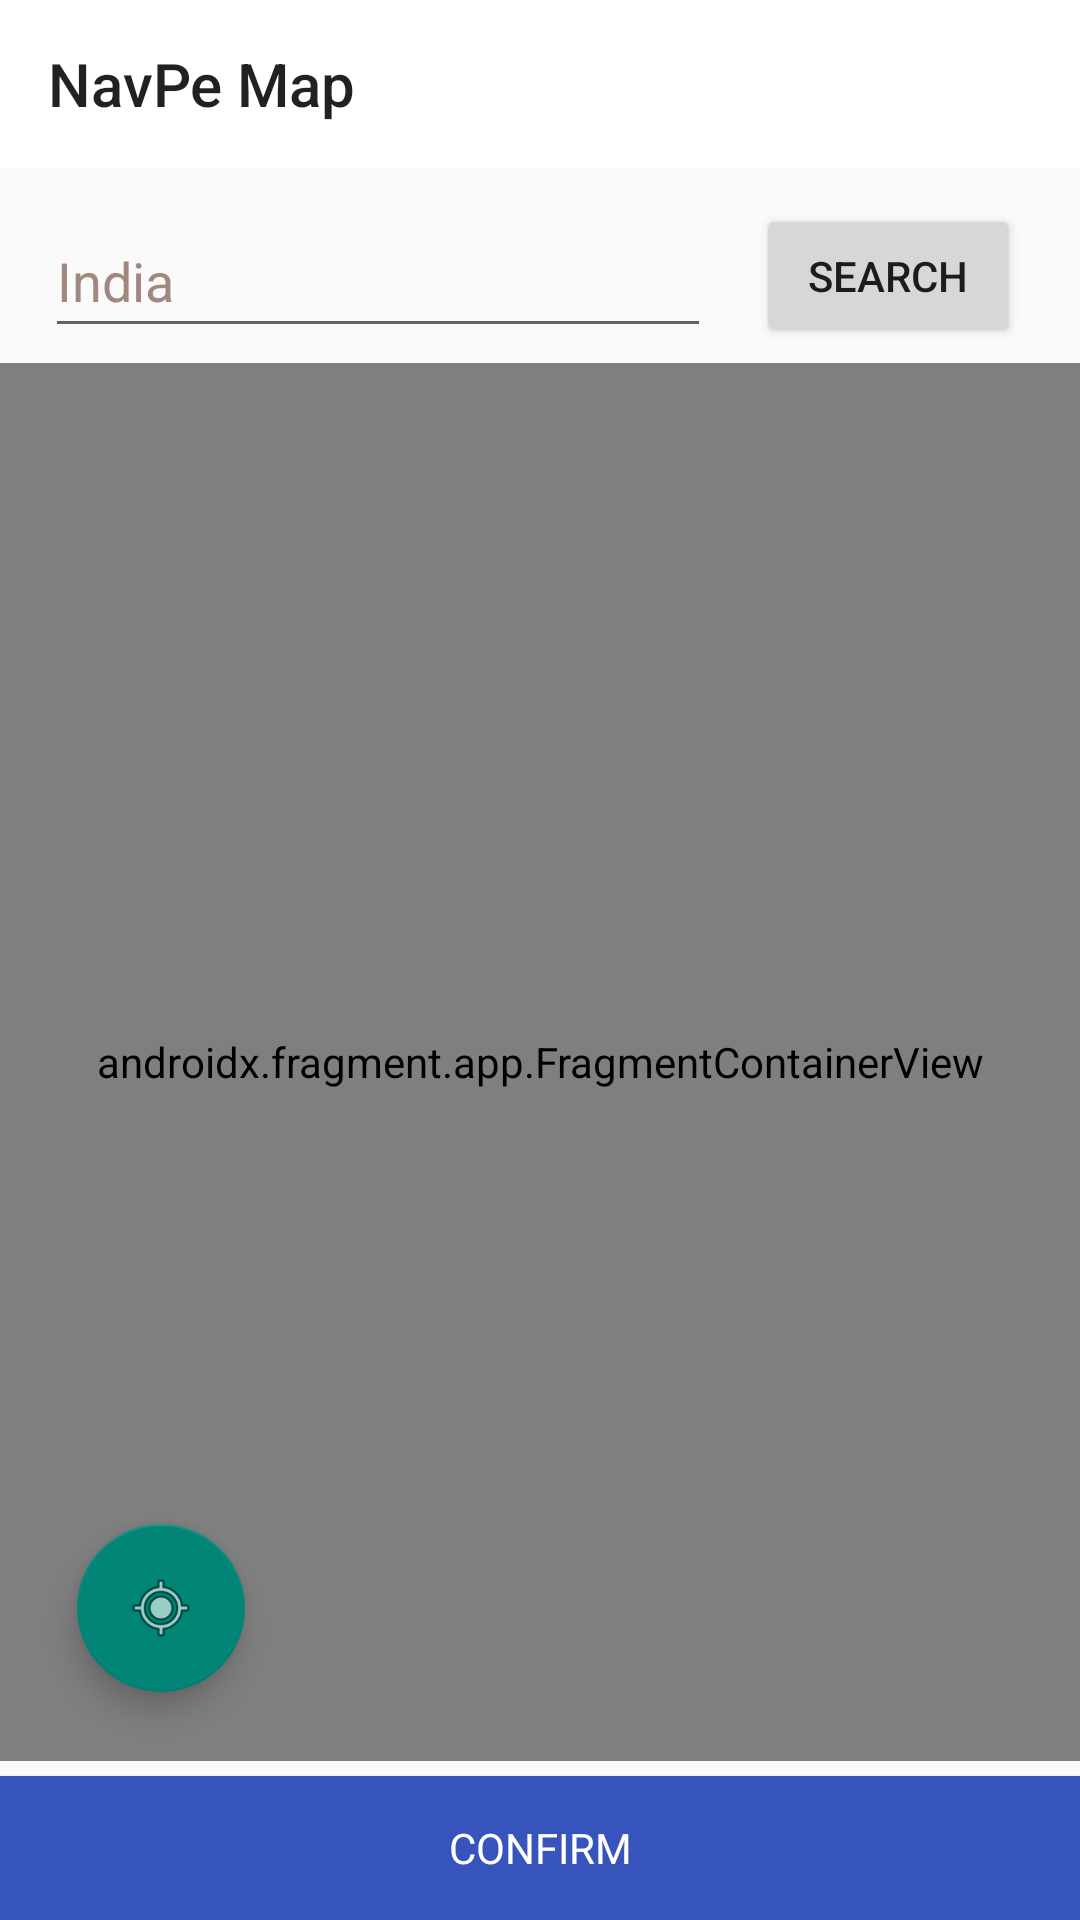

Icons on this 1080w x 1920h Android screen, each with the point to tap as [x,y]:
mylocation: [161,1608]
